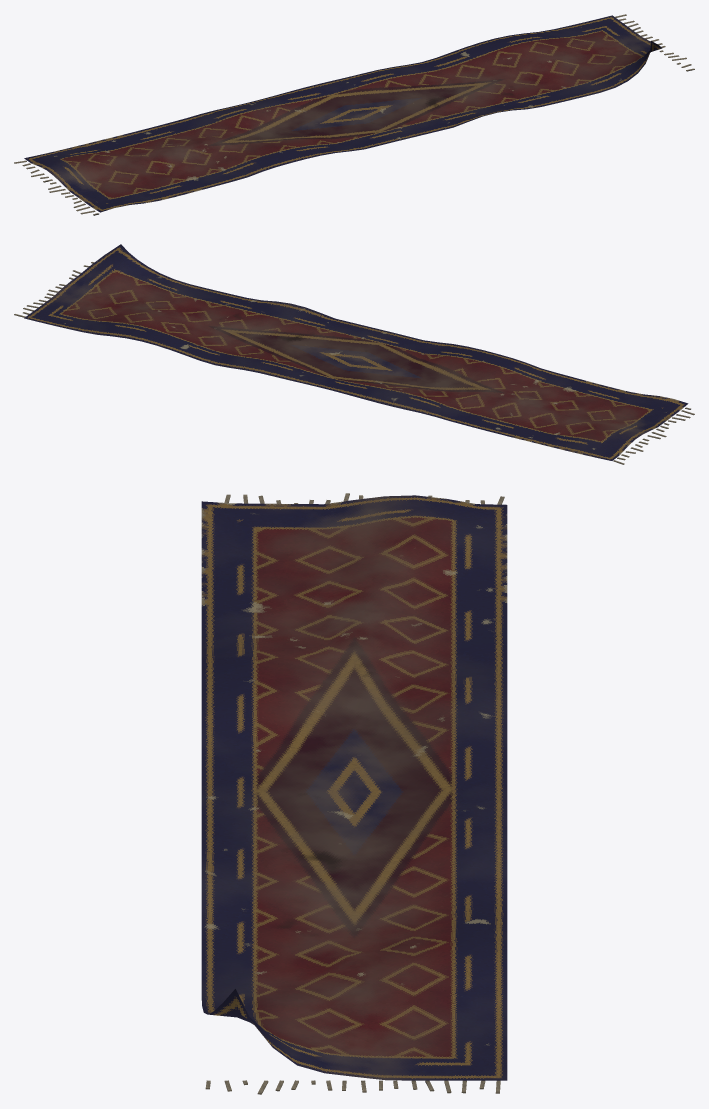
Rendered from carpet_runner.glb.
3 views of the same model, one above another, from view 1: azimuth 30°, elevation 25°; view 2: azimuth 150°, elevation 25°; view 3: azimuth 270°, elevation 25° (orthographic). The views are drawn at different scales.
Parts seen in each view (by area): view 1: CarpetRunner; view 2: CarpetRunner; view 3: CarpetRunner.
Part boxes in pixels (x1,y1,x2,y2): CarpetRunner: [14, 14, 694, 215]; CarpetRunner: [14, 244, 694, 464]; CarpetRunner: [201, 493, 507, 1094].
Bounding box in the file's own units: 4.18 × 0.212 × 0.9.
1 material, 1 textured.
